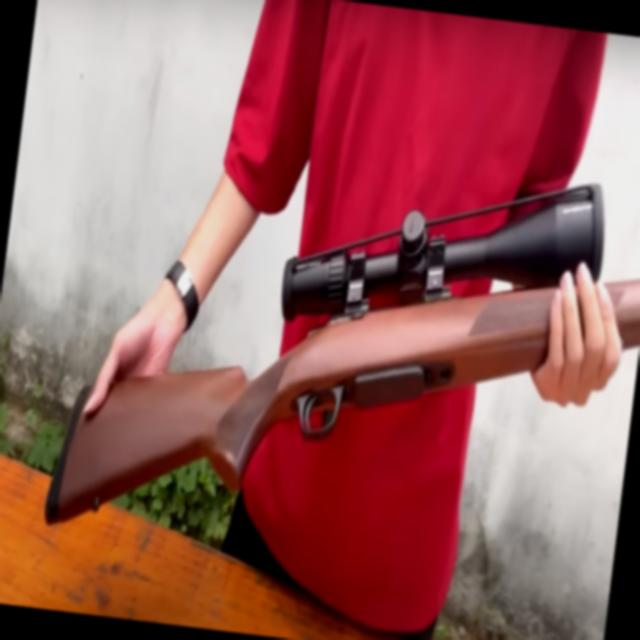rifle: (32, 98, 640, 617)
